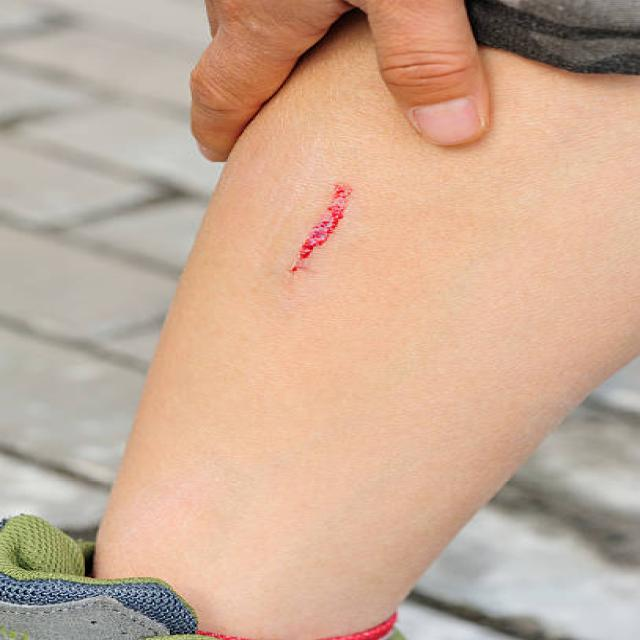Cut: (284, 175, 350, 273)
